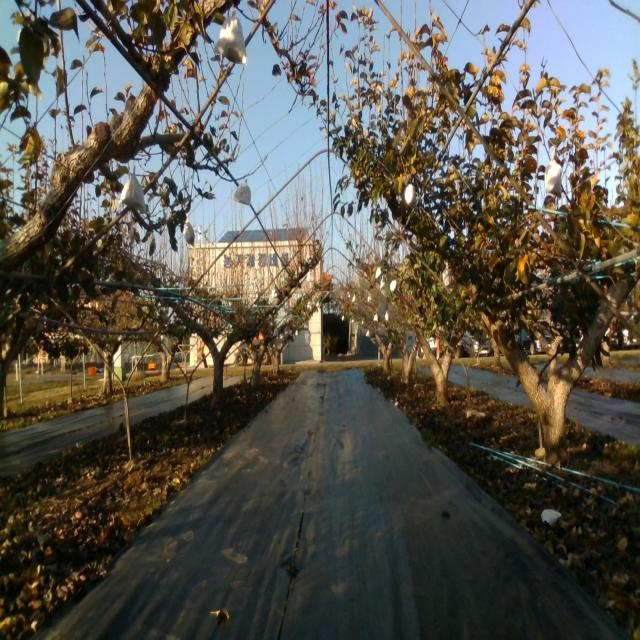pearbags: (214, 10, 246, 65), (118, 175, 146, 214), (544, 160, 562, 196), (232, 178, 251, 206), (403, 184, 417, 211), (184, 218, 196, 245)
